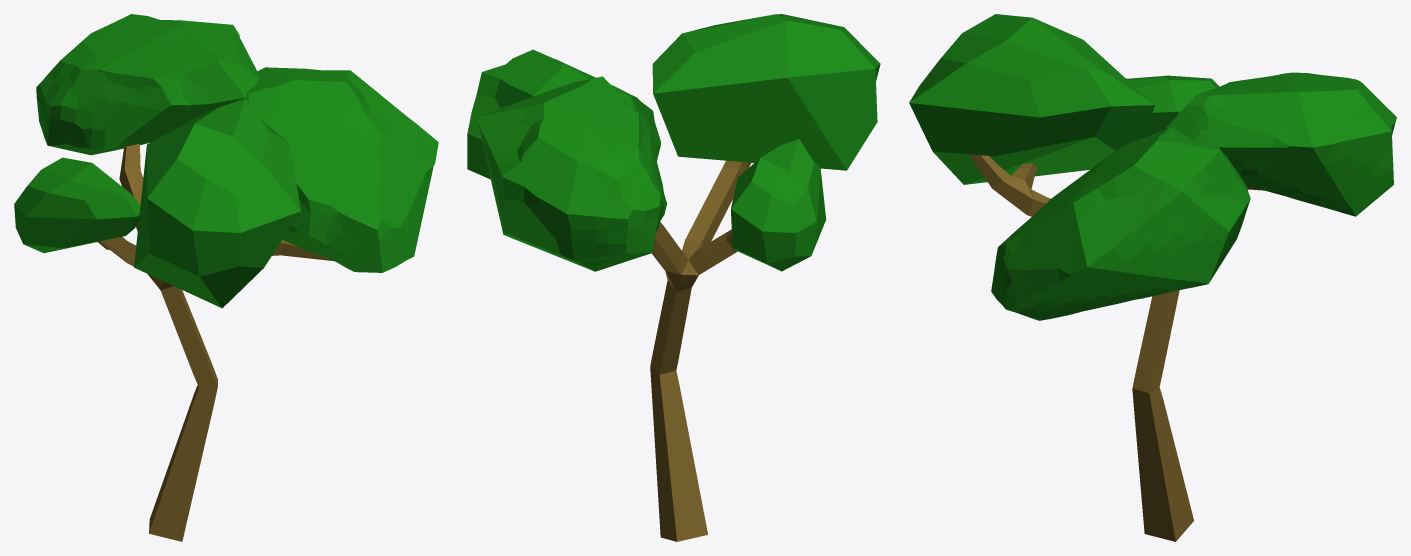
File: low_poly_tree.fbx
3 views of the same model, side by side, from view 1: azimuth 30°, elevation 25°; view 2: azimuth 150°, elevation 25°; view 3: azimuth 270°, elevation 25° (orthographic). The views are drawn at different scales.
Parts seen in each view (by area): view 1: Cube.005, Cube.006, Cube.004, Cube, Cube.001; view 2: Cube.006, Cube.004, Cube, Cube.001, Cube.005; view 3: Cube.005, Cube.006, Cube.004, Cube, Cube.001.
Part boxes in pixels (box(x1,y1,x2,y2)): Cube.005: box(246, 67, 438, 272); Cube.006: box(134, 98, 300, 308); Cube.004: box(36, 14, 258, 155); Cube: box(98, 144, 334, 541); Cube.001: box(14, 157, 140, 253); Cube.006: box(652, 14, 880, 170); Cube.004: box(476, 76, 667, 271); Cube: box(650, 160, 751, 541); Cube.001: box(731, 139, 826, 271); Cube.005: box(467, 49, 660, 179); Cube.005: box(991, 127, 1250, 320); Cube.006: box(909, 14, 1154, 184); Cube.004: box(1166, 72, 1396, 216); Cube: box(969, 154, 1264, 541); Cube.001: box(1126, 75, 1219, 137).
Bounding box in the file's own units: 1251 × 1515 × 1352.
